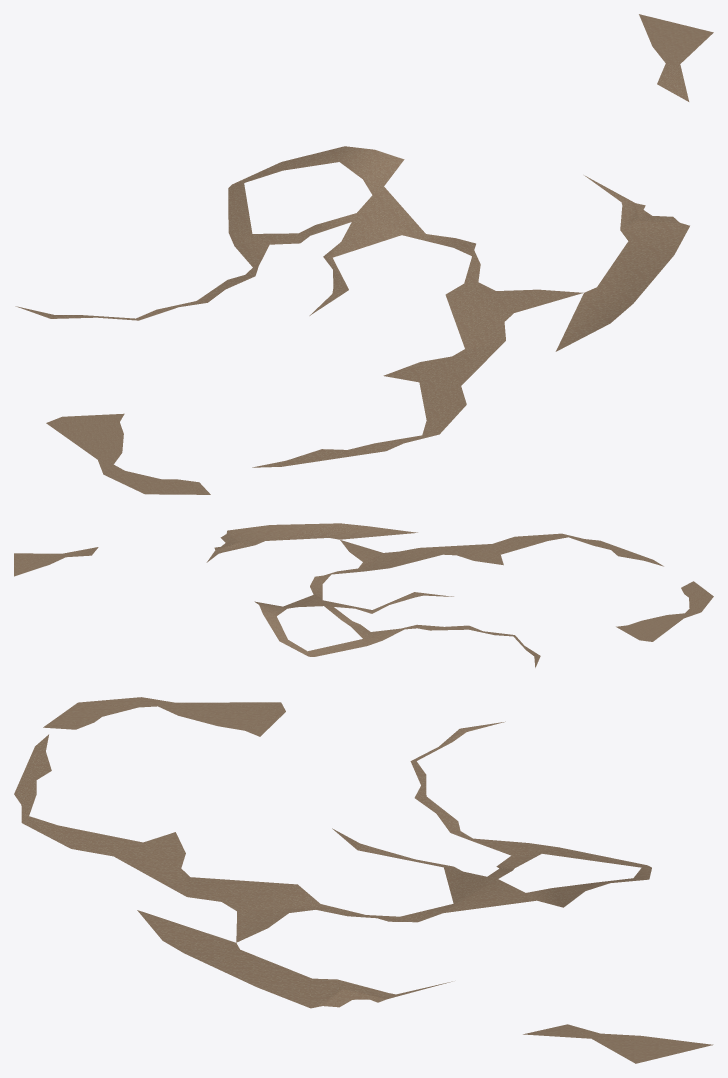
File: kd_stage_136282_2_20.glb
The picture shows the model from 3 angles, top to bottom: view 1: azimuth 30°, elevation 25°; view 2: azimuth 150°, elevation 25°; view 3: azimuth 270°, elevation 25°; orthographic projection. The views are drawn at different scales.
Visible parts, largest first — view 1: kd_stage_136282_2_20; view 2: kd_stage_136282_2_20; view 3: kd_stage_136282_2_20.
Boxes of the visible parts, <box> form: kd_stage_136282_2_20: <box>15,14,713,494</box>; kd_stage_136282_2_20: <box>14,523,713,667</box>; kd_stage_136282_2_20: <box>14,697,713,1063</box>.
Size of the model in its own units: 122 by 8.37 by 84.3.
1 material, 1 textured.
